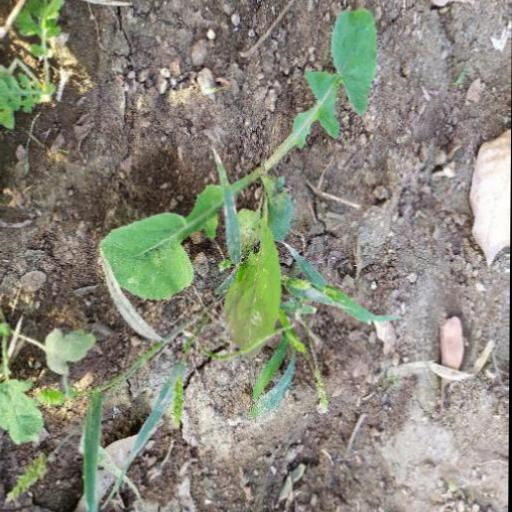weed: (85, 17, 413, 398)
